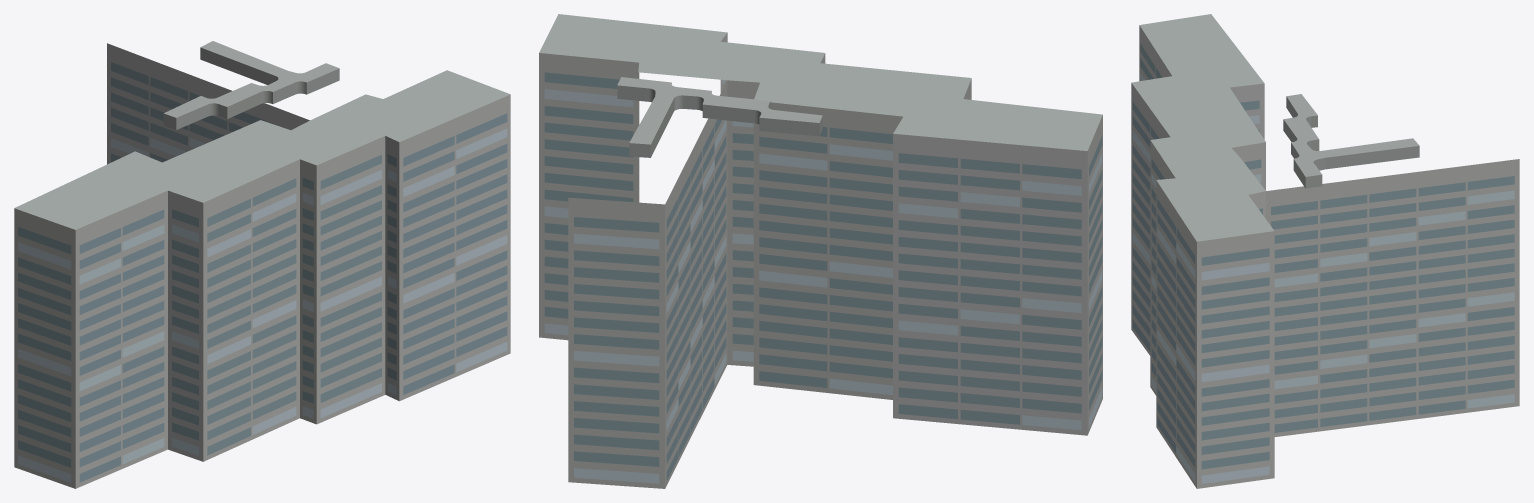
The model's file is apt-a15609002.glb.
The picture shows the model from 3 angles, left to right: view 1: azimuth 30°, elevation 25°; view 2: azimuth 150°, elevation 25°; view 3: azimuth 270°, elevation 25°; orthographic projection. The views are drawn at different scales.
Parts seen in each view (by area): view 1: apt-a15609002; view 2: apt-a15609002; view 3: apt-a15609002.
Part boxes in pixels (x1,y1,x2,y2): apt-a15609002: (14,41,510,488); apt-a15609002: (539,14,1102,488); apt-a15609002: (1131,14,1519,488).
Size of the model in its own units: 86.81 by 46 by 62.53.
